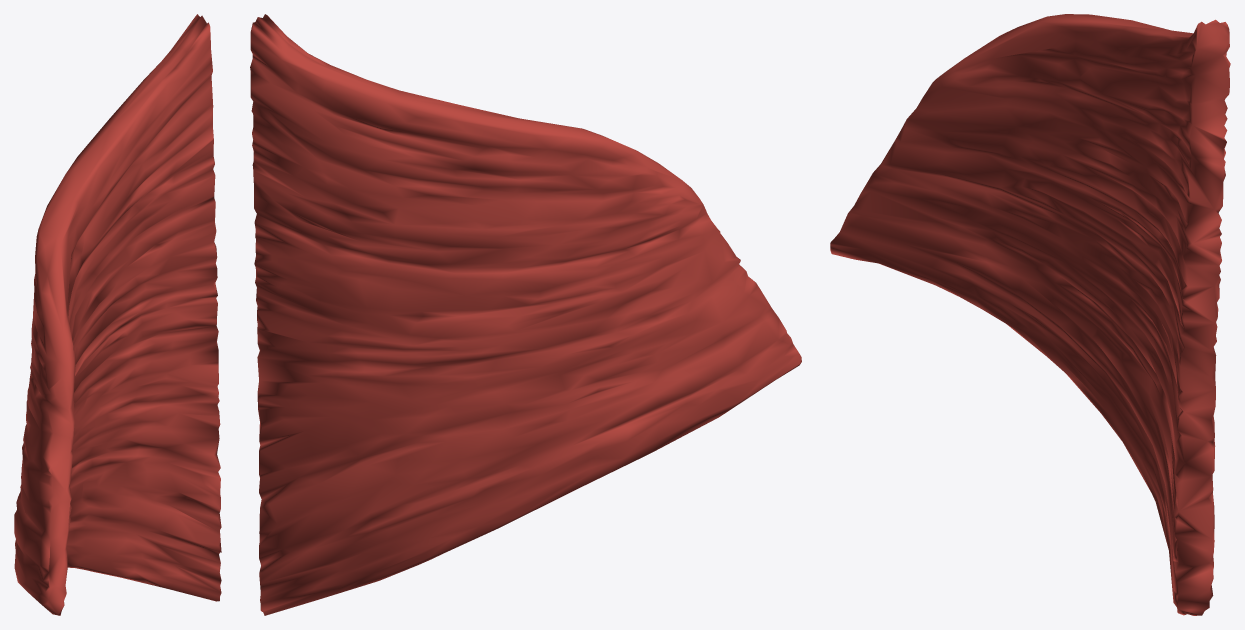
File: musculos-superior-pharyngeal-constrictor-r.glb
The picture shows the model from 3 angles, left to right: view 1: azimuth 30°, elevation 25°; view 2: azimuth 150°, elevation 25°; view 3: azimuth 270°, elevation 25°; orthographic projection. The views are drawn at different scales.
Visible parts, largest first — view 1: Superior pharyngeal constrictor.r; view 2: Superior pharyngeal constrictor.r; view 3: Superior pharyngeal constrictor.r.
Part boxes in pixels (x1,y1,x2,y2): Superior pharyngeal constrictor.r: [14, 14, 221, 615]; Superior pharyngeal constrictor.r: [250, 14, 801, 615]; Superior pharyngeal constrictor.r: [830, 14, 1230, 615].
Bounding box in the file's own units: 0.033 × 0.0536 × 0.0326.
